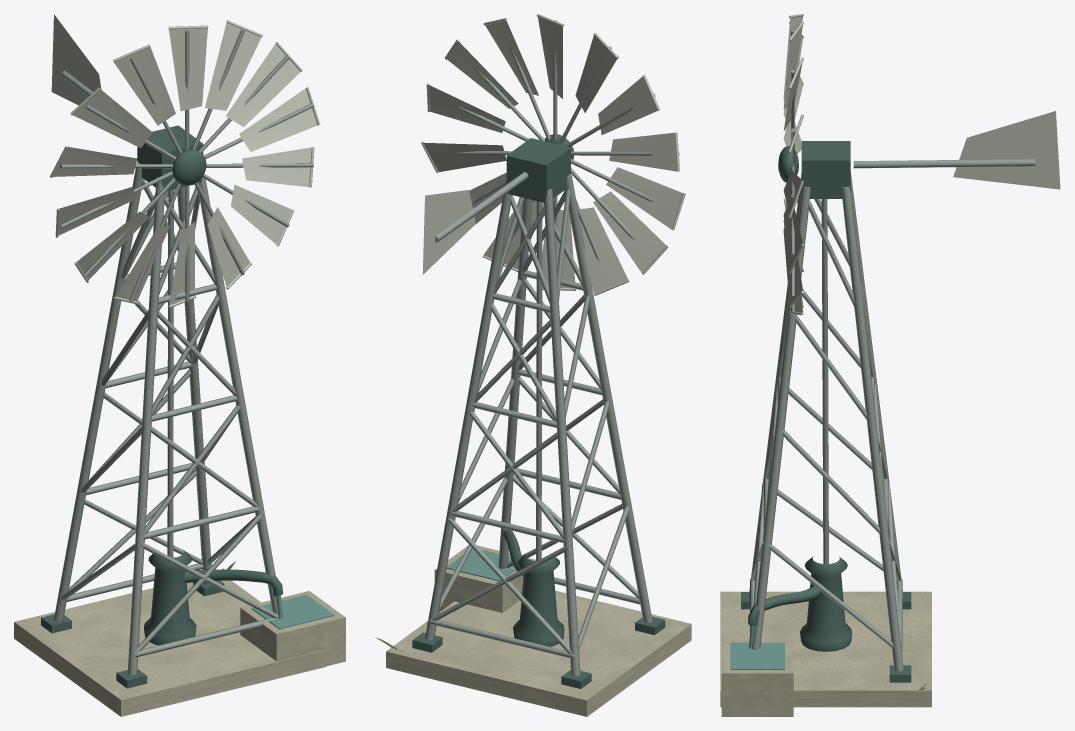
Rendered from wind-pump.glb.
3 views of the same model, side by side, from view 1: azimuth 30°, elevation 25°; view 2: azimuth 150°, elevation 25°; view 3: azimuth 270°, elevation 25° (orthographic). The views are drawn at different scales.
Visible parts, largest first — view 1: farm_wind_pump_Weathered_galvanized_wind_pump_steel, windmill_rotor_Pale_galvanized_windmill_sails, farm_wind_pump_hand_trowelled_lime_concrete, farm_wind_pump_Dark_green_cast_iron_water_pump, windmill_rotor_Weathered_galvanized_wind_pump_steel, wind_vane, vertical_sucker_rod, water_in_stone_basin, wheel_hub; view 2: farm_wind_pump_Weathered_galvanized_wind_pump_steel, windmill_rotor_Pale_galvanized_windmill_sails, farm_wind_pump_hand_trowelled_lime_concrete, farm_wind_pump_Dark_green_cast_iron_water_pump, windmill_rotor_Weathered_galvanized_wind_pump_steel, wind_vane, vertical_sucker_rod, water_in_stone_basin, tail_boom; view 3: farm_wind_pump_hand_trowelled_lime_concrete, farm_wind_pump_Weathered_galvanized_wind_pump_steel, farm_wind_pump_Dark_green_cast_iron_water_pump, wind_vane, windmill_rotor_Pale_galvanized_windmill_sails, vertical_sucker_rod, water_in_stone_basin, tail_boom, windmill_rotor_Weathered_galvanized_wind_pump_steel.
Boxes of the visible parts, box(x1,y1,x2,y2) form: farm_wind_pump_Weathered_galvanized_wind_pump_steel: box(54, 162, 282, 674); windmill_rotor_Pale_galvanized_windmill_sails: box(50, 20, 320, 308); farm_wind_pump_hand_trowelled_lime_concrete: box(14, 580, 345, 716); farm_wind_pump_Dark_green_cast_iron_water_pump: box(41, 125, 283, 688); windmill_rotor_Weathered_galvanized_wind_pump_steel: box(60, 29, 313, 302); wind_vane: box(51, 14, 101, 105); vertical_sucker_rod: box(167, 189, 173, 557); water_in_stone_basin: box(251, 594, 334, 629); wheel_hub: box(172, 149, 206, 185); farm_wind_pump_Weathered_galvanized_wind_pump_steel: box(425, 174, 652, 675); windmill_rotor_Pale_galvanized_windmill_sails: box(421, 14, 685, 295); farm_wind_pump_hand_trowelled_lime_concrete: box(386, 545, 691, 716); farm_wind_pump_Dark_green_cast_iron_water_pump: box(412, 138, 665, 688); windmill_rotor_Weathered_galvanized_wind_pump_steel: box(452, 20, 679, 263); wind_vane: box(422, 190, 475, 274); vertical_sucker_rod: box(536, 201, 542, 561); water_in_stone_basin: box(446, 548, 514, 581); tail_boom: box(435, 172, 528, 242); farm_wind_pump_hand_trowelled_lime_concrete: box(720, 591, 931, 716); farm_wind_pump_Weathered_galvanized_wind_pump_steel: box(748, 172, 903, 671); farm_wind_pump_Dark_green_cast_iron_water_pump: box(741, 141, 911, 682); wind_vane: box(953, 111, 1060, 189); windmill_rotor_Pale_galvanized_windmill_sails: box(783, 14, 803, 315); vertical_sucker_rod: box(821, 199, 828, 563); water_in_stone_basin: box(730, 642, 784, 669); tail_boom: box(853, 159, 1035, 168); windmill_rotor_Weathered_galvanized_wind_pump_steel: box(791, 30, 794, 312).
Bounding box in the file's own units: 2.63 × 6.08 × 2.97.
7 materials, 1 textured.
